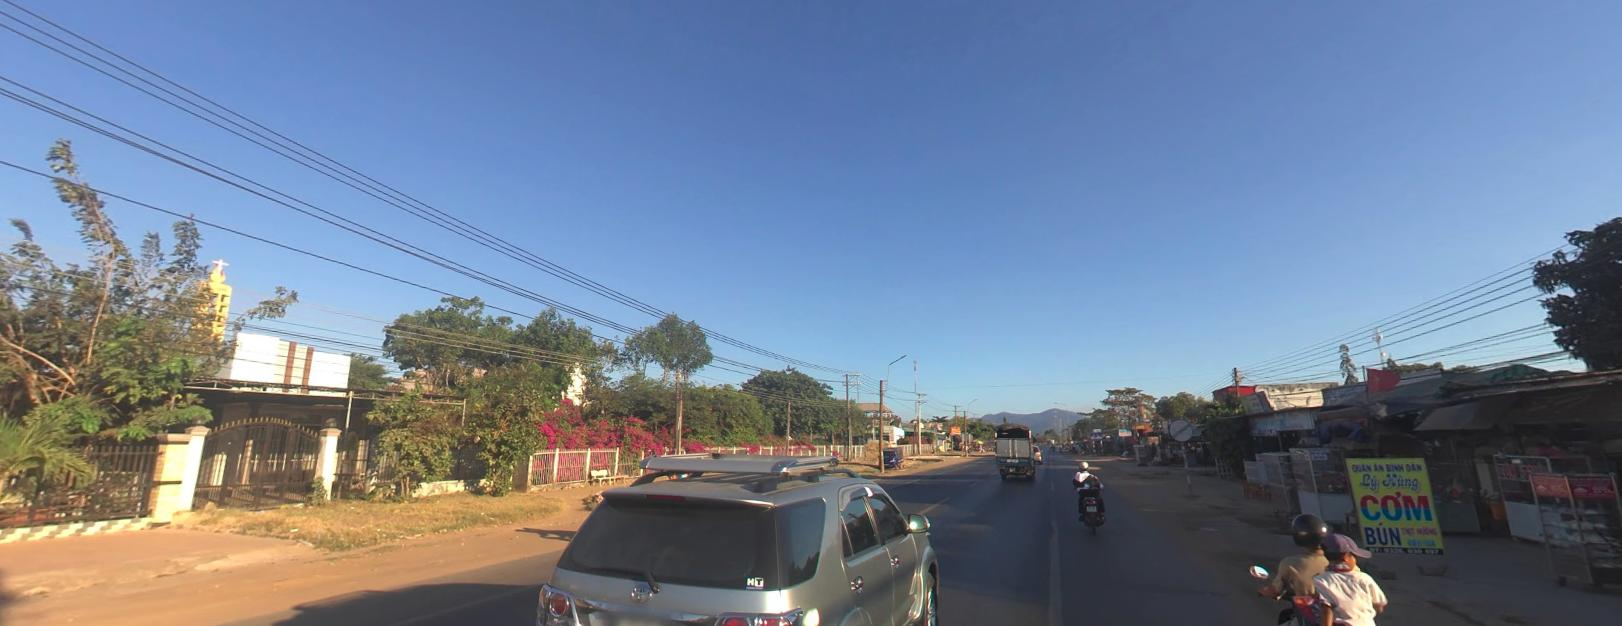Cam con lai: (1169, 417, 1192, 440)
